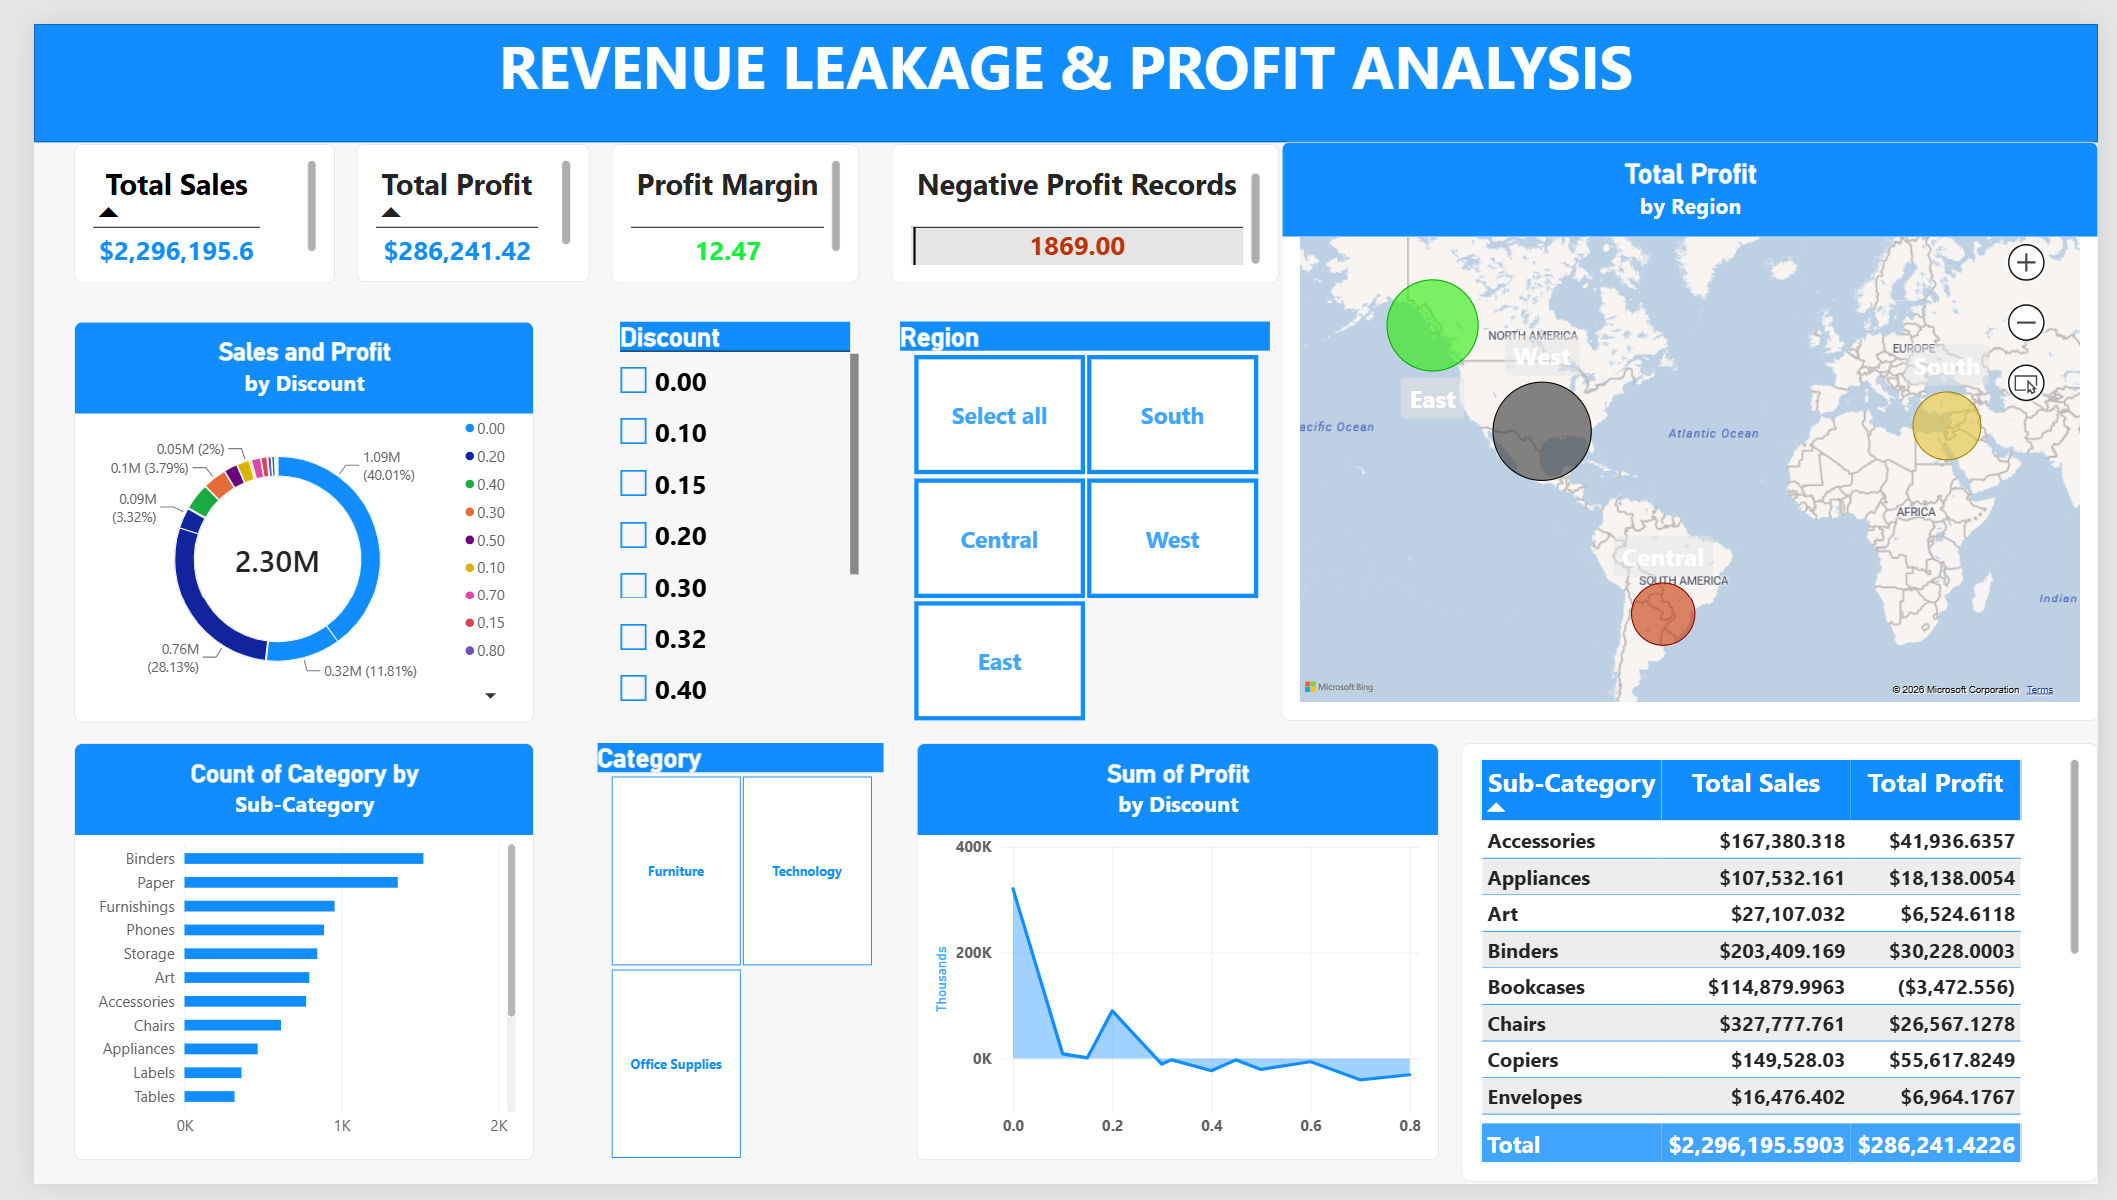

The page's visual inventory and layout, read from the dashboard file:
{"tool":"powerbi","page":{"name":"Page 1","canvas":[1920,1080],"ordinal":0},"visuals":[{"type":"tableEx","fields":{"Values":["SampleSuperstore_Cleaned.Total Sales"]},"box":[37,111.1,242.9,129.7],"z":0},{"type":"tableEx","fields":{"Values":["SampleSuperstore_Cleaned.Total Profit"]},"box":[300,111.7,216.7,128.3],"z":1000},{"type":"tableEx","fields":{"Values":["SampleSuperstore_Cleaned.Profit Margin"]},"box":[537.2,111.1,230.5,129.7],"z":2000},{"type":"tableEx","fields":{"Values":["SampleSuperstore_Cleaned.Negative Profit Records"]},"box":[798.6,111.1,360.2,129.7],"z":3000},{"type":"textbox","box":[37,316,243,150],"z":4000},{"type":"shape","box":[0,0,1920,110],"z":5000},{"type":"textbox","box":[0,0,1920,110],"z":6000},{"type":"donutChart","title":" Sales and  Profit","fields":{"Category":["SampleSuperstore_Cleaned.Discount"],"Y":["Sum(SampleSuperstore_Cleaned.Sales)","Sum(SampleSuperstore_Cleaned.Profit)"]},"box":[38,276,428,374],"z":7000},{"type":"clusteredBarChart","title":"Count of Category by","fields":{"Category":["SampleSuperstore_Cleaned.Sub-Category"],"Y":["CountNonNull(SampleSuperstore_Cleaned.Category)"]},"box":[38,670,428,388],"z":8000},{"type":"slicer","fields":{"Values":["SampleSuperstore_Cleaned.Discount"]},"box":[538,276,230,374],"z":8001},{"type":"map","fields":{"Category":["SampleSuperstore_Cleaned.Region"],"Size":["SampleSuperstore_Cleaned.Total Profit"]},"box":[1160,110,760,540],"z":8002},{"type":"slicer","fields":{"Values":["SampleSuperstore_Cleaned.Region"]},"box":[798,276,360,374],"z":8003},{"type":"slicer","fields":{"Values":["SampleSuperstore_Cleaned.Category"]},"box":[516,670,282,388],"z":8004},{"type":"tableEx","fields":{"Values":["SampleSuperstore_Cleaned.Sub-Category","SampleSuperstore_Cleaned.Total Sales","SampleSuperstore_Cleaned.Total Profit"]},"box":[1328,670,592,408],"z":8005},{"type":"stackedAreaChart","fields":{"Category":["SampleSuperstore_Cleaned.Discount"],"Y":["Sum(SampleSuperstore_Cleaned.Profit)"]},"box":[820,670,486,388],"z":8006}]}

Visuals, with their boxes in screenshot pixels (x1, y1, x2, y2), scaled from the page's 1920x1080 canvas onto the 2117x1200 screenshot:
tableEx - SampleSuperstore_Cleaned.Total Sales: x1=41, y1=123, x2=309, y2=268
tableEx - SampleSuperstore_Cleaned.Total Profit: x1=331, y1=124, x2=570, y2=267
tableEx - SampleSuperstore_Cleaned.Profit Margin: x1=592, y1=123, x2=846, y2=268
tableEx - SampleSuperstore_Cleaned.Negative Profit Records: x1=881, y1=123, x2=1278, y2=268
textbox: x1=41, y1=351, x2=309, y2=518
shape: x1=0, y1=0, x2=2116, y2=122
textbox: x1=0, y1=0, x2=2116, y2=122
" Sales and  Profit" donutChart: x1=42, y1=307, x2=514, y2=722
"Count of Category by" clusteredBarChart: x1=42, y1=744, x2=514, y2=1176
slicer - SampleSuperstore_Cleaned.Discount: x1=593, y1=307, x2=847, y2=722
map - SampleSuperstore_Cleaned.Region x SampleSuperstore_Cleaned.Total Profit: x1=1279, y1=122, x2=2116, y2=722
slicer - SampleSuperstore_Cleaned.Region: x1=880, y1=307, x2=1277, y2=722
slicer - SampleSuperstore_Cleaned.Category: x1=569, y1=744, x2=880, y2=1176
tableEx - SampleSuperstore_Cleaned.Sub-Category x SampleSuperstore_Cleaned.Total Sales: x1=1464, y1=744, x2=2116, y2=1198
stackedAreaChart - SampleSuperstore_Cleaned.Discount x Sum(SampleSuperstore_Cleaned.Profit): x1=904, y1=744, x2=1440, y2=1176
